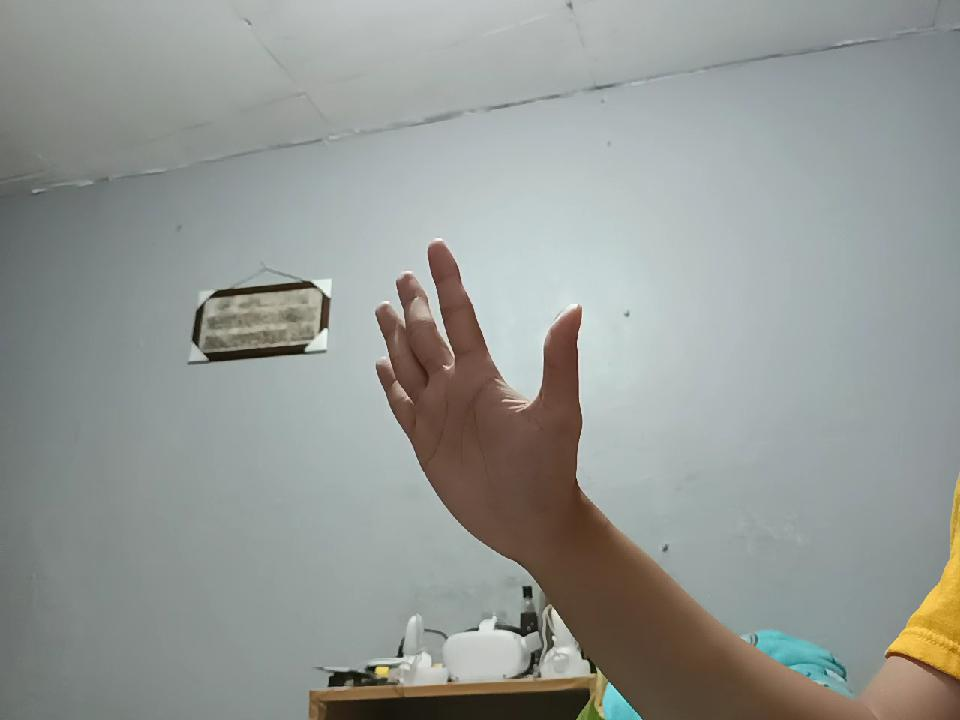paper: (365, 224, 595, 562)
